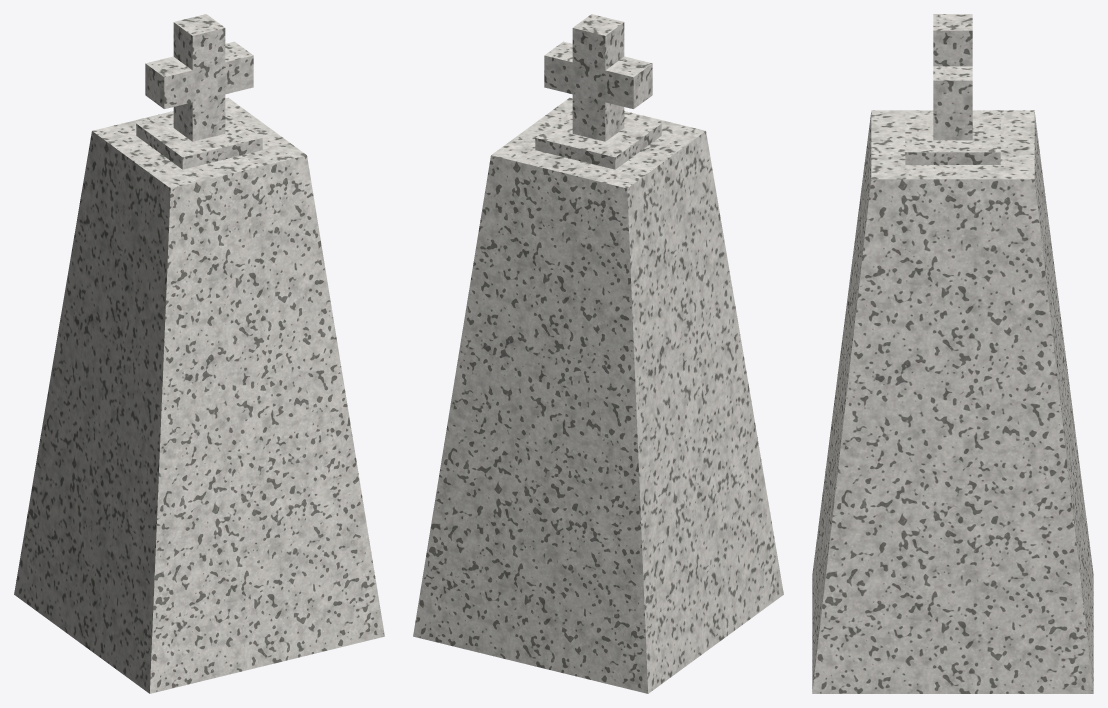
Rendered from king-white.glb.
The picture shows the model from 3 angles, left to right: view 1: azimuth 30°, elevation 25°; view 2: azimuth 150°, elevation 25°; view 3: azimuth 270°, elevation 25°; orthographic projection. The views are drawn at different scales.
Parts seen in each view (by area): view 1: White_King; view 2: White_King; view 3: White_King.
Part boxes in pixels (left/top/right/bottom): White_King: left=14, top=14, right=384, bottom=693; White_King: left=413, top=14, right=783, bottom=693; White_King: left=812, top=14, right=1093, bottom=693.
Bounding box in the file's own units: 0.6875 × 1.65 × 0.6875.
Materials: 1 (1 with a texture image).
